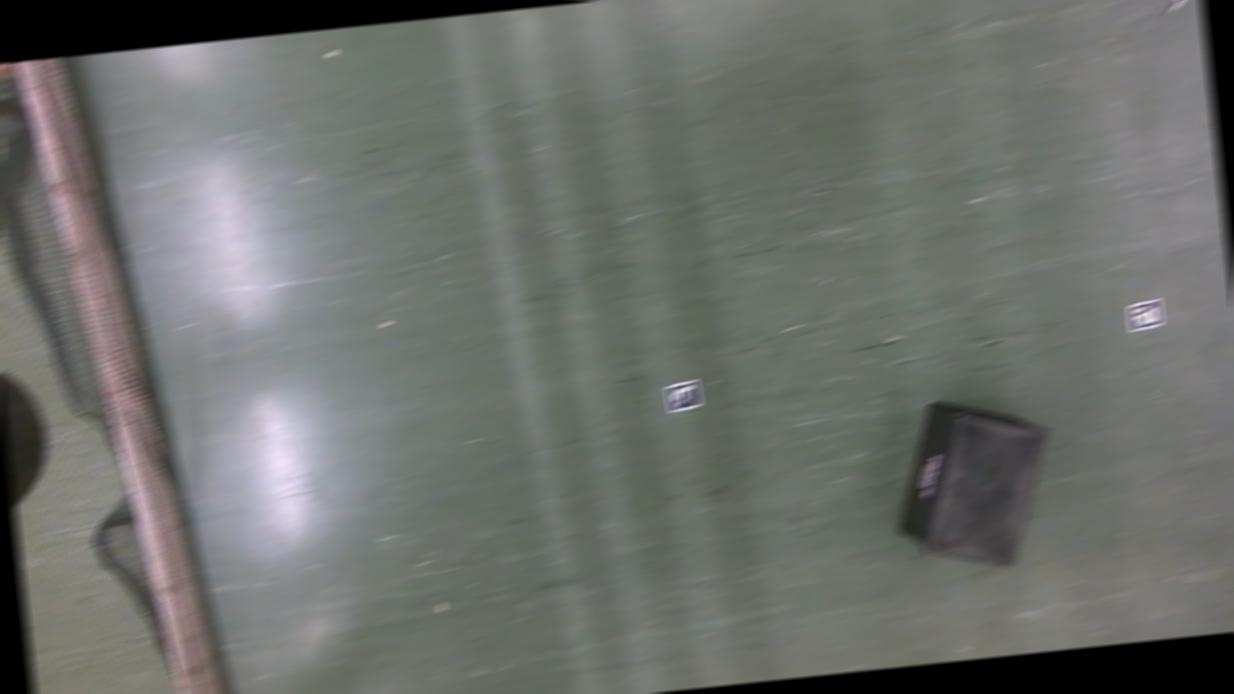probes: (1160, 1, 1204, 18)
rako: (885, 389, 1064, 578)
